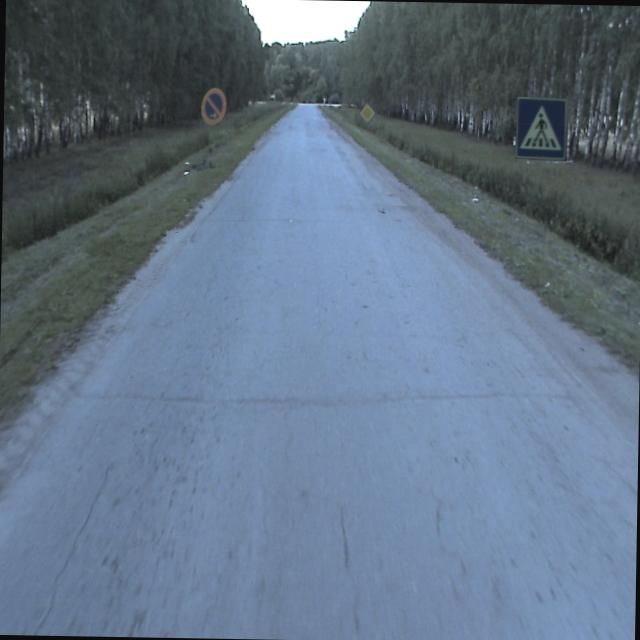road: (0, 104, 637, 640)
